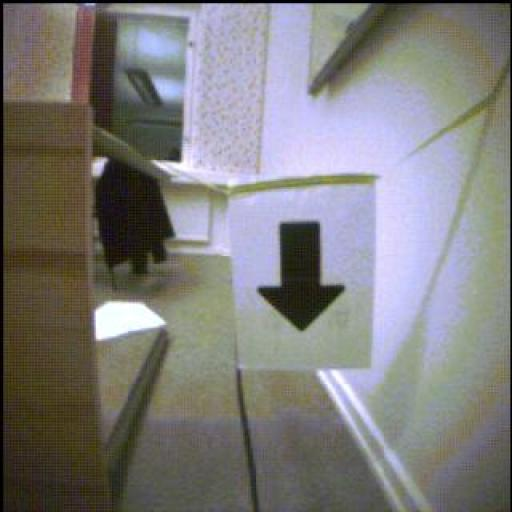Arrow: (259, 224, 345, 333)
